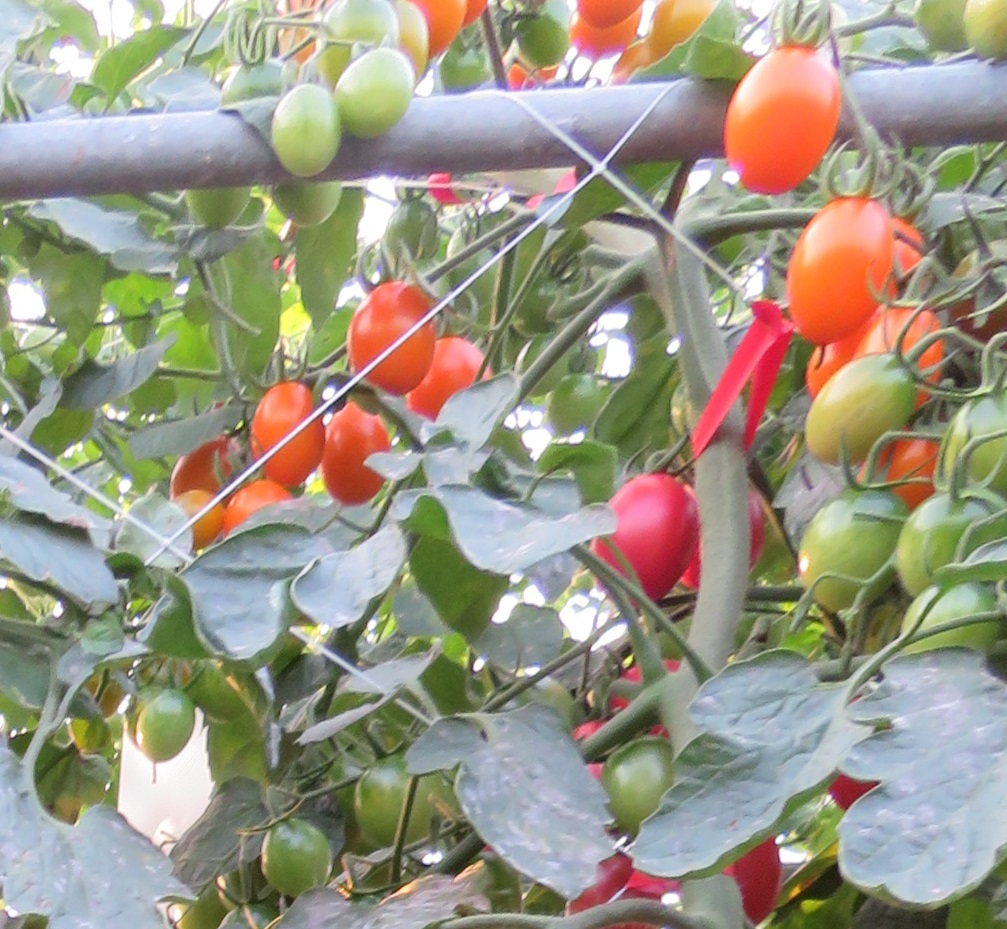green: (790, 475, 911, 614), (890, 479, 1007, 601), (803, 352, 927, 467), (352, 752, 444, 850), (333, 48, 415, 137), (270, 80, 342, 179), (602, 735, 675, 831), (119, 682, 204, 761), (315, 2, 401, 74), (260, 817, 333, 895), (516, 7, 572, 67)
orange: (721, 38, 846, 197), (786, 185, 893, 346), (345, 275, 446, 395), (317, 397, 393, 506), (250, 378, 325, 487), (569, 1, 643, 60)
red: (598, 467, 698, 609)
